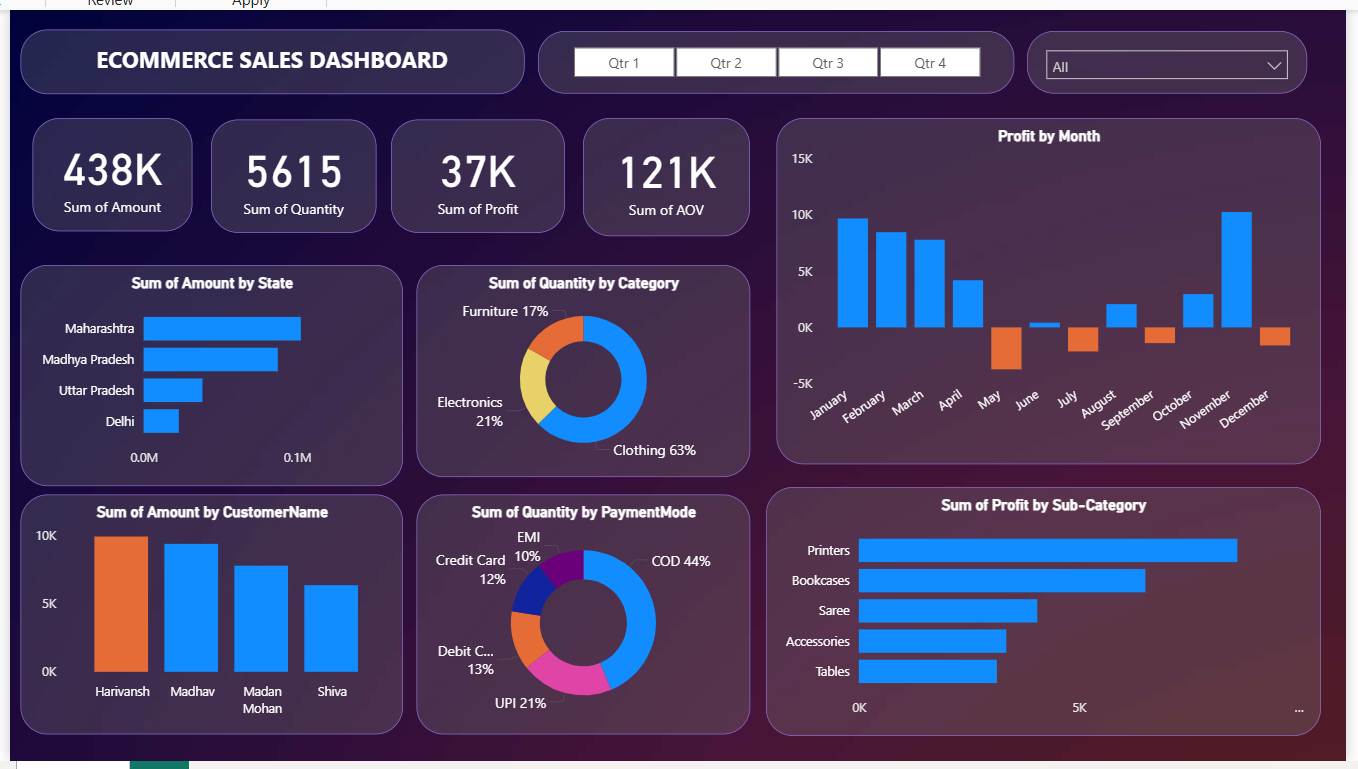

The dashboard page shown, as its layout file describes it:
{"tool":"powerbi","page":{"name":"Page 1","canvas":[1280,720],"ordinal":0},"visuals":[{"type":"textbox","box":[10,18.3,483.3,61.7],"z":0},{"type":"columnChart","title":"Profit by Month","fields":{"Category":["Orders.Order Date.Variation.Date Hierarchy.Month"],"Y":["Details.Profit"]},"box":[735,103.3,521.7,331.7],"z":1000},{"type":"barChart","fields":{"Category":["Details.Sub-Category"],"Y":["Details.Profit"]},"box":[725,456.7,531.7,238.3],"z":2000},{"type":"donutChart","fields":{"Category":["Details.Category"],"Y":["Details.Quantity"]},"box":[390,245,320,203.3],"z":3000},{"type":"donutChart","fields":{"Category":["Details.PaymentMode"],"Y":["Details.Quantity"]},"box":[390,465,320,230],"z":4000},{"type":"card","fields":{"Values":["Details.Amount"]},"box":[21.7,103.3,153.3,108.3],"z":4001},{"type":"card","fields":{"Values":["Details.AOV"]},"box":[550,103.3,160,113.3],"z":4002},{"type":"card","fields":{"Values":["Details.Quantity"]},"box":[193.3,105,158.3,108.3],"z":4003},{"type":"card","fields":{"Values":["Details.Profit"]},"box":[365,105,166.7,108.3],"z":4004},{"type":"barChart","fields":{"Category":["Orders.State"],"Y":["Details.Amount"]},"box":[10,245,366.7,211.7],"z":4005},{"type":"columnChart","fields":{"Category":["Orders.CustomerName"],"Y":["Details.Amount"]},"box":[10,465,366.7,230],"z":4006},{"type":"slicer","fields":{"Values":["Orders.Order Date.Variation.Date Hierarchy.Quarter"]},"box":[506.7,20,456.7,60],"z":4007},{"type":"slicer","fields":{"Values":["Orders.State"]},"box":[975,20,268.3,60],"z":4008}]}

Visuals, with their boxes on the page's 1280x720 design canvas (x1, y1, x2, y2). These are canvas units, not pixel positions in the 1358x769 screenshot, which may show the page scaled, cropped or inside an application window:
textbox: (10,18,493,80)
"Profit by Month" columnChart: (735,103,1257,435)
barChart - Details.Sub-Category x Details.Profit: (725,457,1257,695)
donutChart - Details.Category x Details.Quantity: (390,245,710,448)
donutChart - Details.PaymentMode x Details.Quantity: (390,465,710,695)
card - Details.Amount: (22,103,175,212)
card - Details.AOV: (550,103,710,217)
card - Details.Quantity: (193,105,352,213)
card - Details.Profit: (365,105,532,213)
barChart - Orders.State x Details.Amount: (10,245,377,457)
columnChart - Orders.CustomerName x Details.Amount: (10,465,377,695)
slicer - Orders.Order Date.Variation.Date Hierarchy.Quarter: (507,20,963,80)
slicer - Orders.State: (975,20,1243,80)
